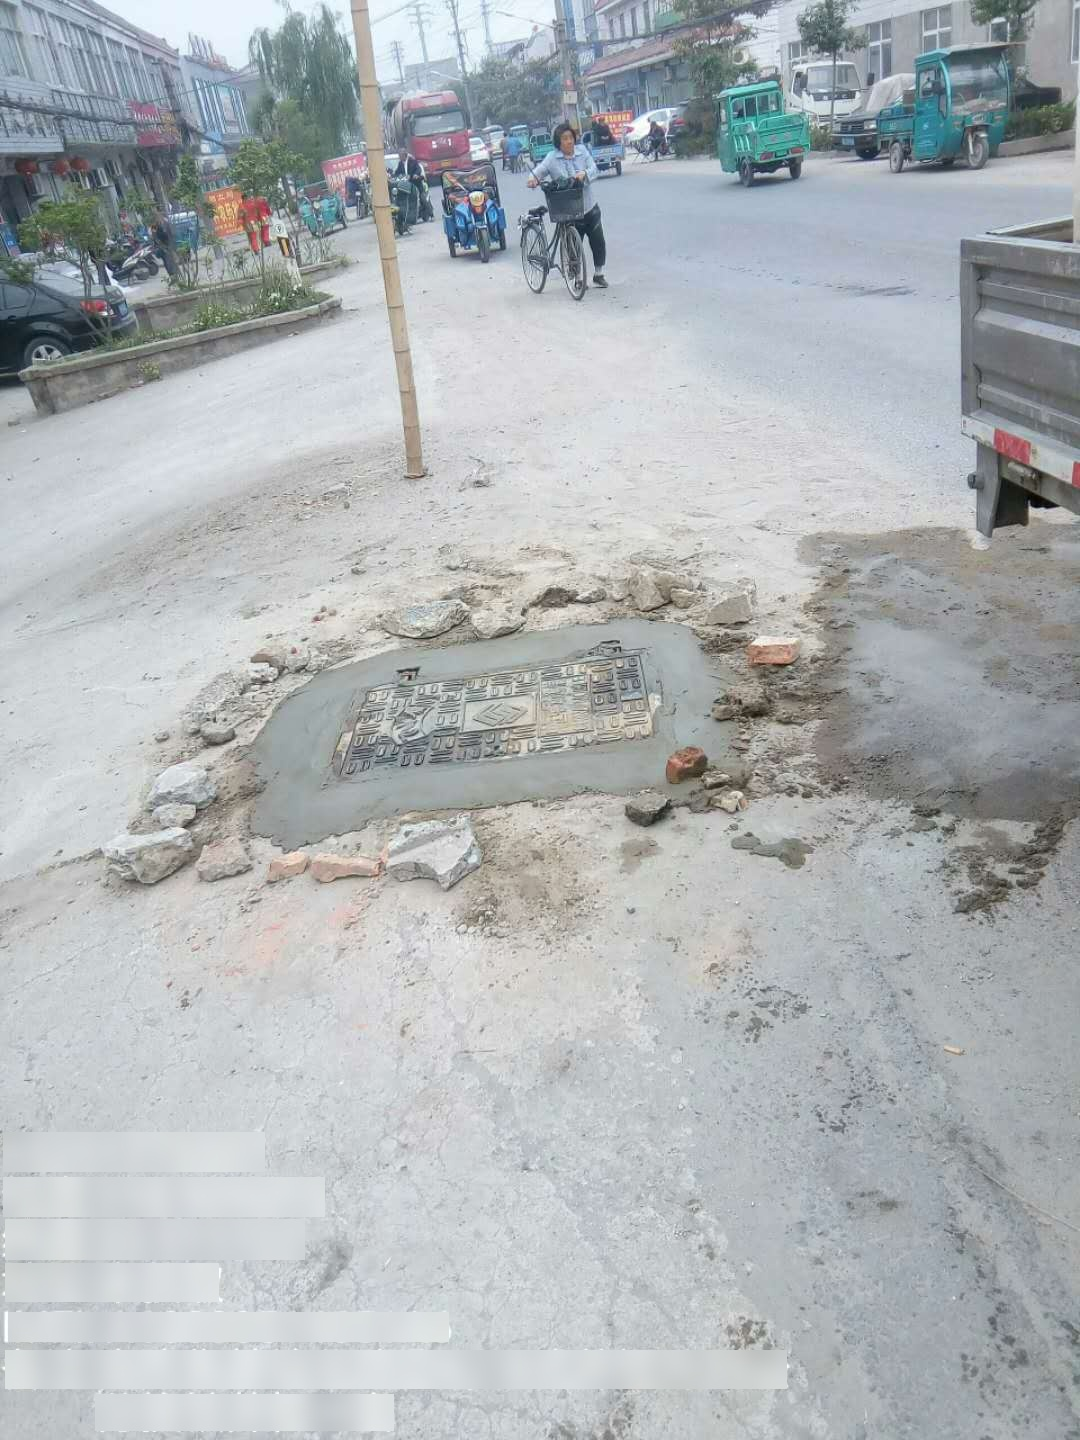good: (321, 639, 667, 778)
